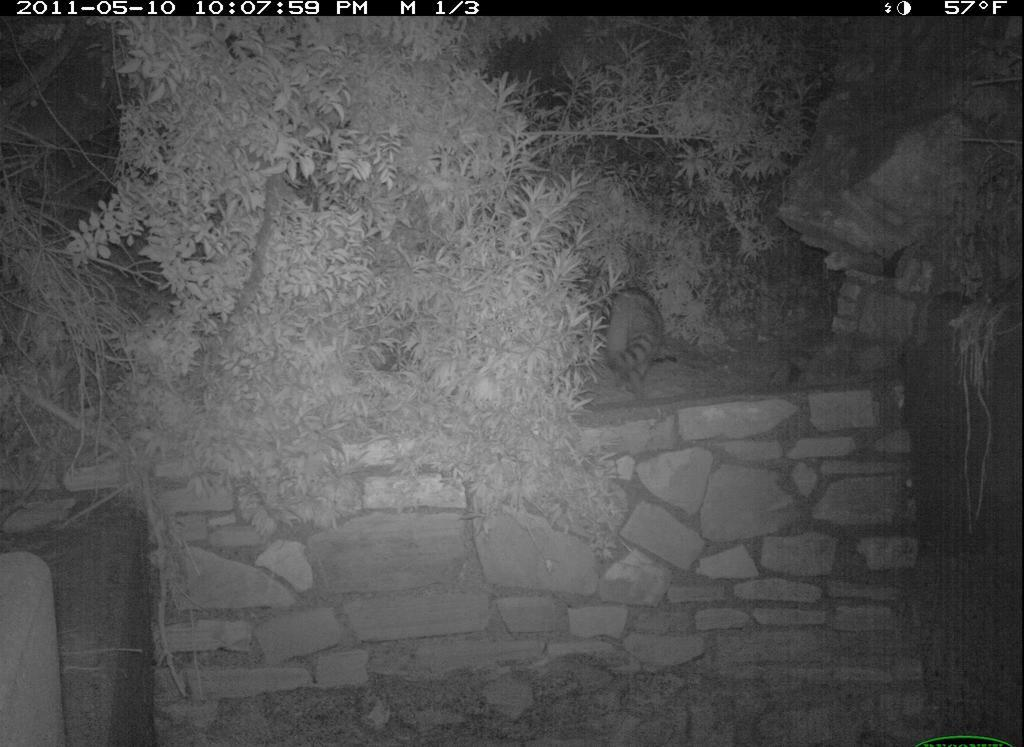raccoon: (594, 281, 669, 401)
